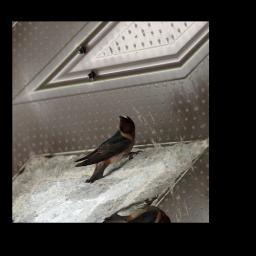Swallow: (67, 110, 147, 190)
